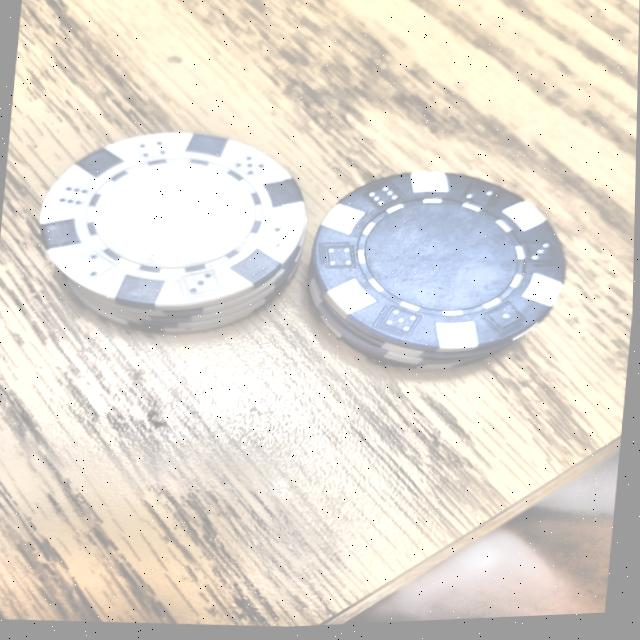Chip: (9, 117, 338, 374), (266, 158, 594, 410)
